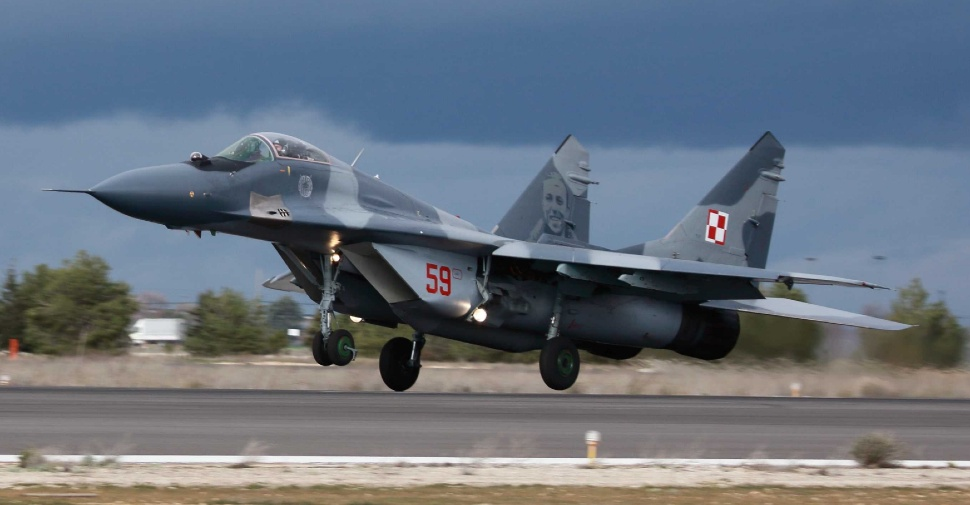Mig-29: (40, 46, 876, 449)
